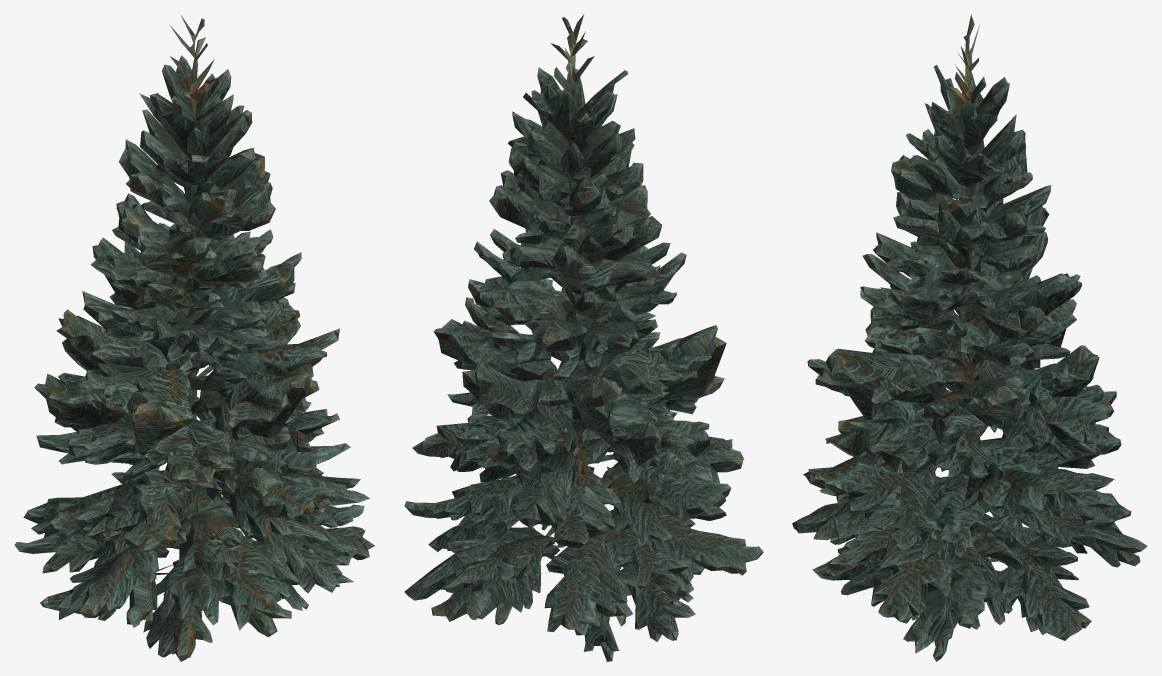
The model's file is conifer_spruce.glb.
3 renders of one model, left to right at view 1: azimuth 30°, elevation 25°; view 2: azimuth 150°, elevation 25°; view 3: azimuth 270°, elevation 25°, orthographic. The views are drawn at different scales.
Bounding box in the file's own units: 0.9725 × 1.79 × 0.9555.
Materials: 1 (1 with a texture image).
